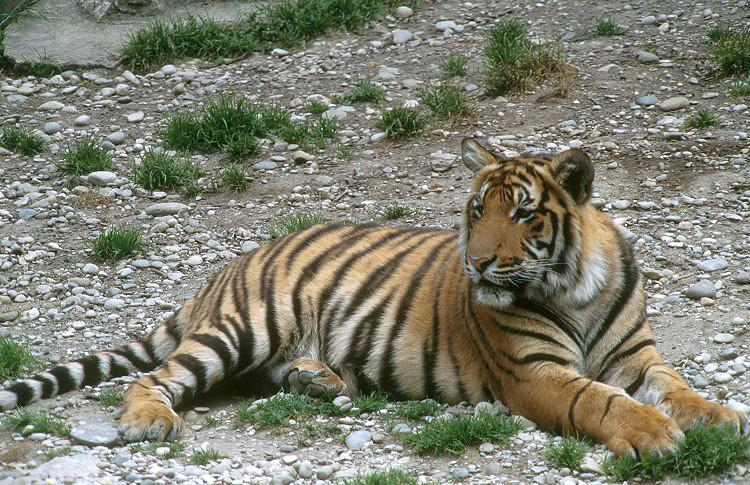Tigre: (49, 131, 725, 471)
